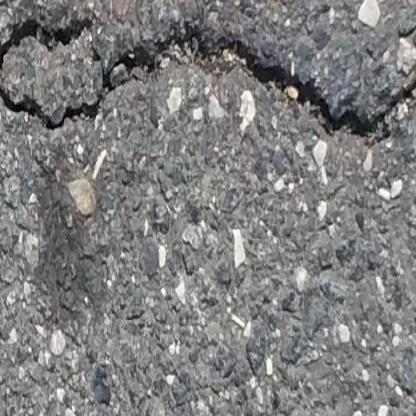Cracks: (0, 18, 416, 145)
